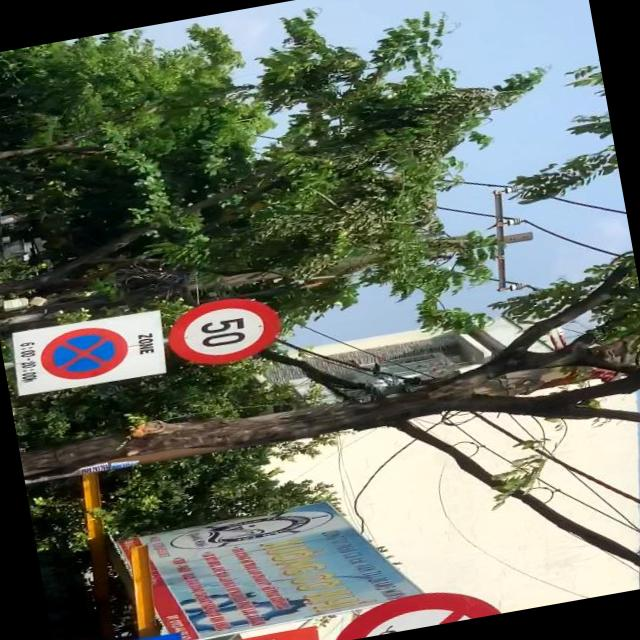P-127: (162, 288, 287, 371)
P-130: (37, 323, 132, 384)
